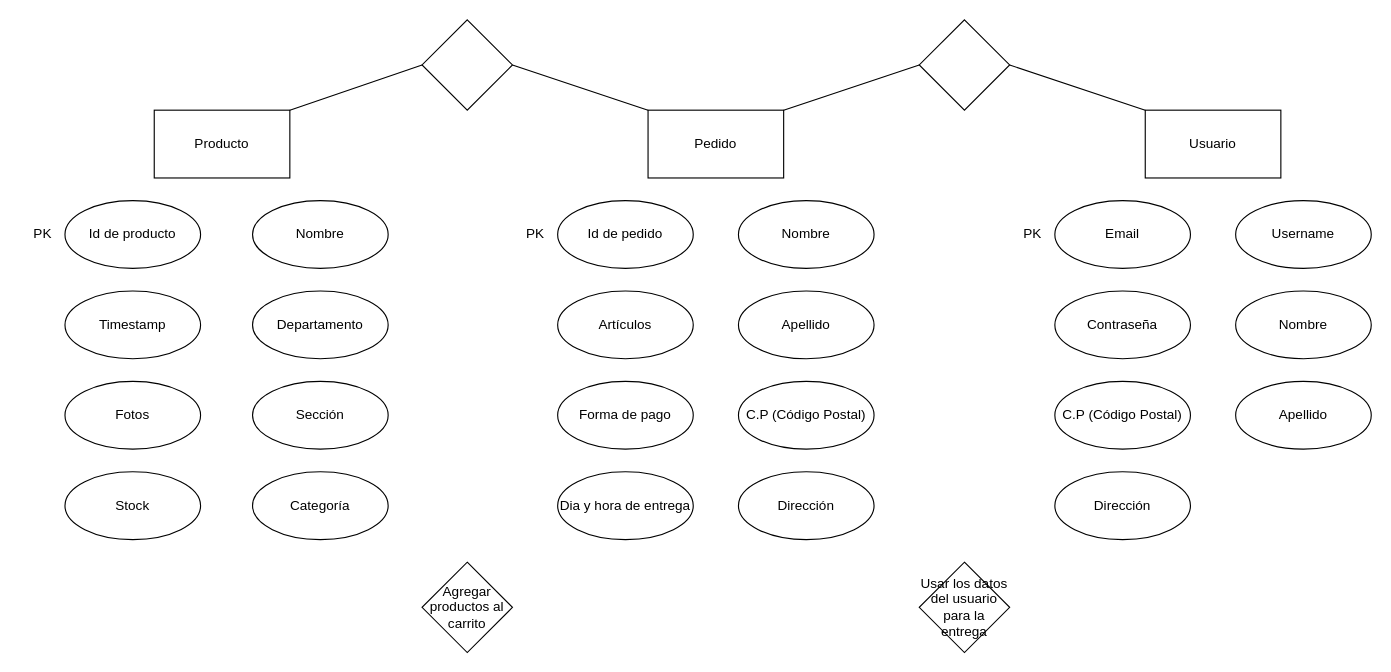
The diagram is 1391 pixels wide and 672 high, and some of its shapes have lost their labels. The shapes that lost their labels are listed below. From the top down, each one's box as (x1, y1, x2, y2) in pixels, then its label:
(421, 19, 512, 110): Añadir productos al carrito de compras
(918, 19, 1010, 110): Datos personales para el carrito de compras
